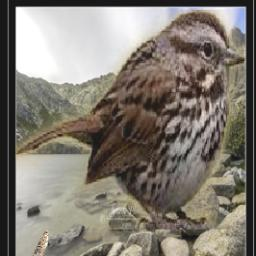Sparrow: (15, 10, 244, 229), (30, 231, 49, 256)
